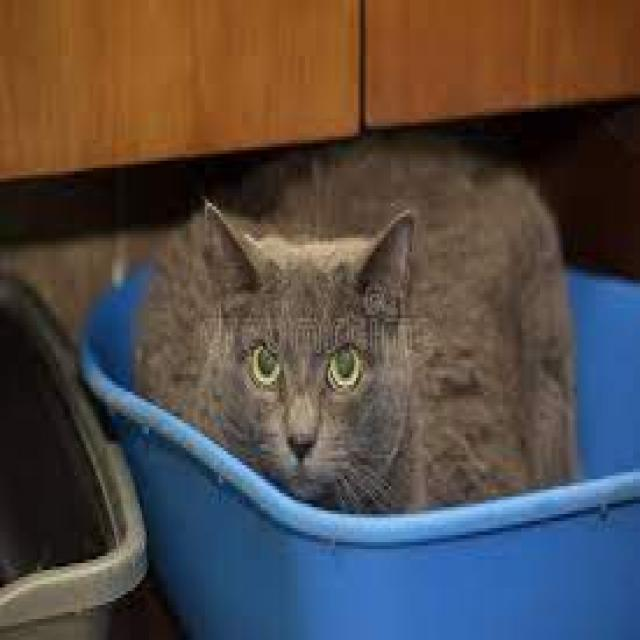Cat: (131, 123, 578, 519)
